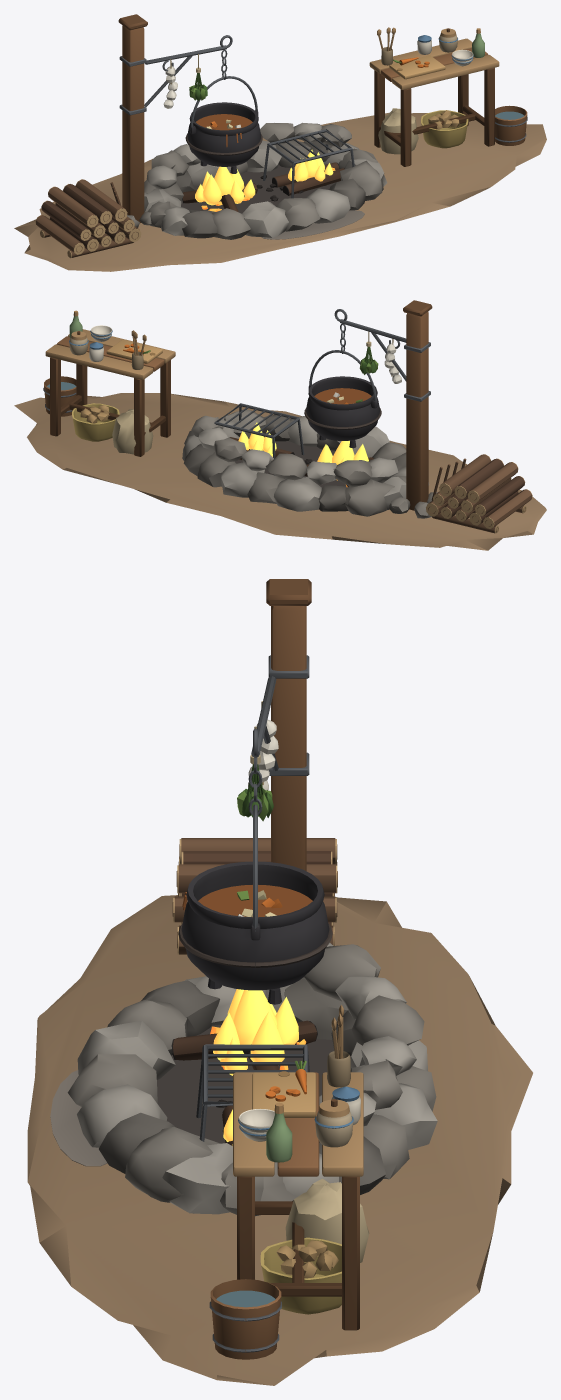
File: cook_hearth.glb
3 views of the same model, one above another, from view 1: azimuth 30°, elevation 25°; view 2: azimuth 150°, elevation 25°; view 3: azimuth 270°, elevation 25° (orthographic). The views are drawn at different scales.
Parts seen in each view (by area): view 1: base, pot, fire_pot, fire_pan, soup; view 2: base, pot, fire_pot, soup, fire_pan; view 3: base, pot, fire_pot, soup.
Part boxes in pixels (left/top/right/bottom): base: left=14, top=14, right=546, bottom=271; pot: left=185, top=76, right=262, bottom=173; fire_pot: left=195, top=166, right=255, bottom=205; fire_pan: left=288, top=149, right=333, bottom=181; soup: left=196, top=114, right=252, bottom=130; base: left=14, top=300, right=546, bottom=550; pot: left=304, top=350, right=381, bottom=448; fire_pot: left=317, top=440, right=368, bottom=464; soup: left=314, top=388, right=371, bottom=404; fire_pan: left=238, top=422, right=276, bottom=456; base: left=27, top=579, right=532, bottom=1385; pot: left=178, top=804, right=332, bottom=1004; fire_pot: left=213, top=989, right=298, bottom=1075; soup: left=198, top=885, right=312, bottom=917.
Bounding box in the file's own units: 5.02 × 1.96 × 2.12.
